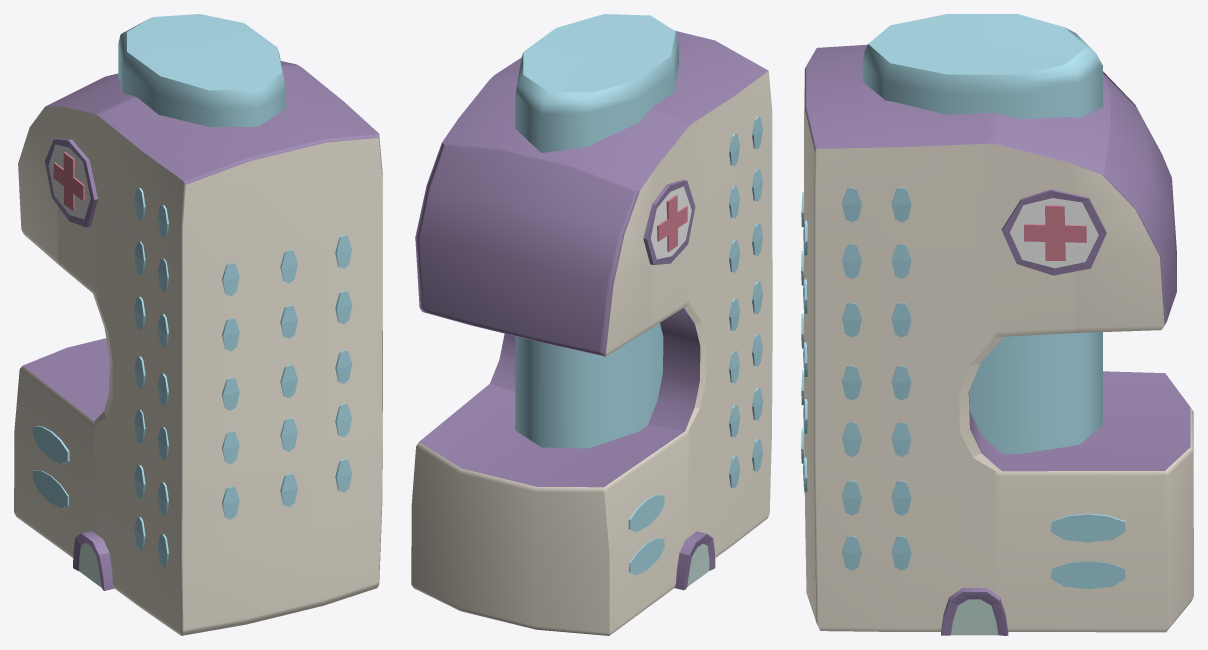
File: Hospital.fbx
3 renders of one model, left to right at view 1: azimuth 30°, elevation 25°; view 2: azimuth 150°, elevation 25°; view 3: azimuth 270°, elevation 25°, orthographic. The views are drawn at different scales.
Visible parts, largest first — view 1: Hospital; view 2: Hospital; view 3: Hospital.
Part boxes in pixels (x1,y1,x2,y2): Hospital: (14, 14, 382, 635); Hospital: (411, 14, 772, 635); Hospital: (801, 14, 1193, 635).
Bounding box in the file's own units: 421 × 613 × 923.
